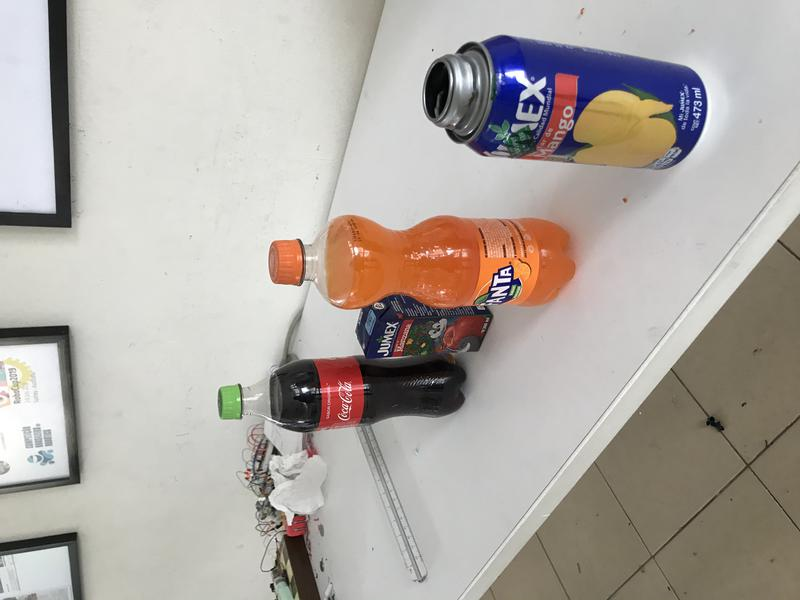coca_cola: (218, 354, 468, 433)
fanta: (268, 215, 578, 311)
jumex_botella: (420, 36, 713, 170)
jumex_cajita: (356, 294, 494, 359)
